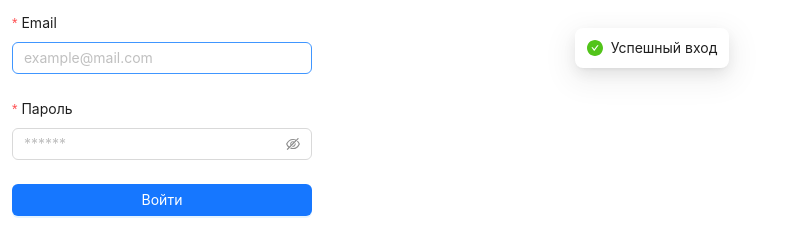
Test: Feature: LoginForm › should display error on 401
The width and height of the screenshot is (795, 235).
Type "wrong@mail.ru" into the field labelled "Email".
click(162, 58); type("wrong@mail.ru")  # box [12,42,312,74]
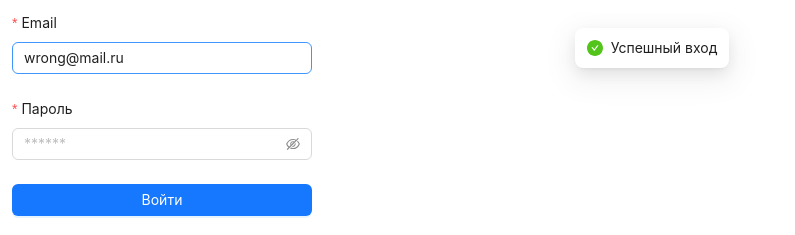
Type "wrong" into the password field labelled "Пароль".
click(153, 144); type("wrong")  # box [24,133,282,155]
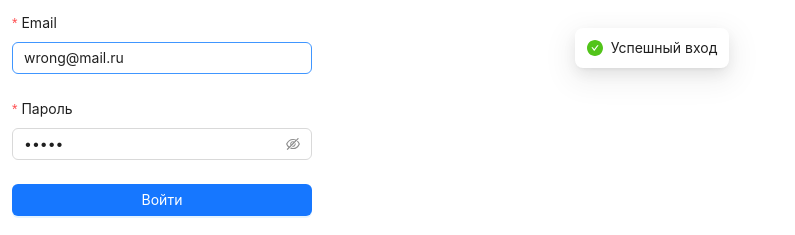
Click the button "Войти".
click(162, 200)  # box [12,184,312,216]
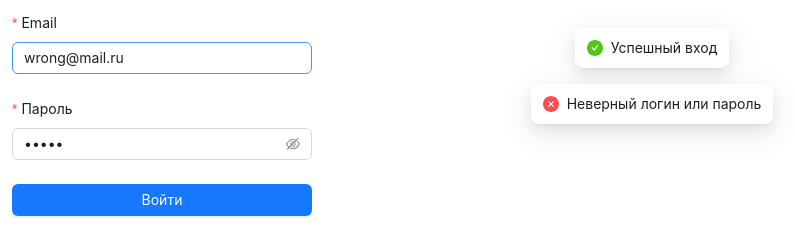
Expected: the text "Неверный логин или пароль" is shown, [567,93,761,115]
